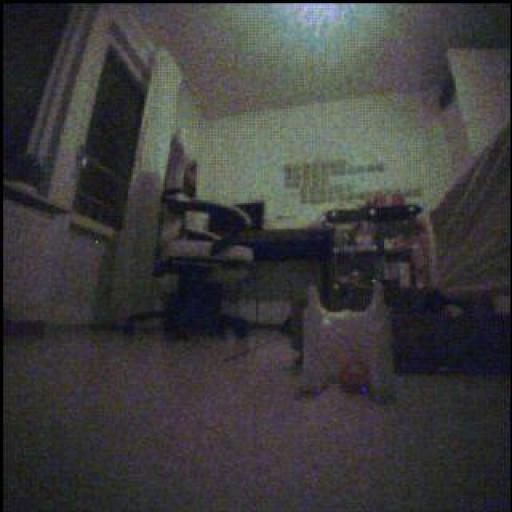basket: (338, 360, 371, 397)
